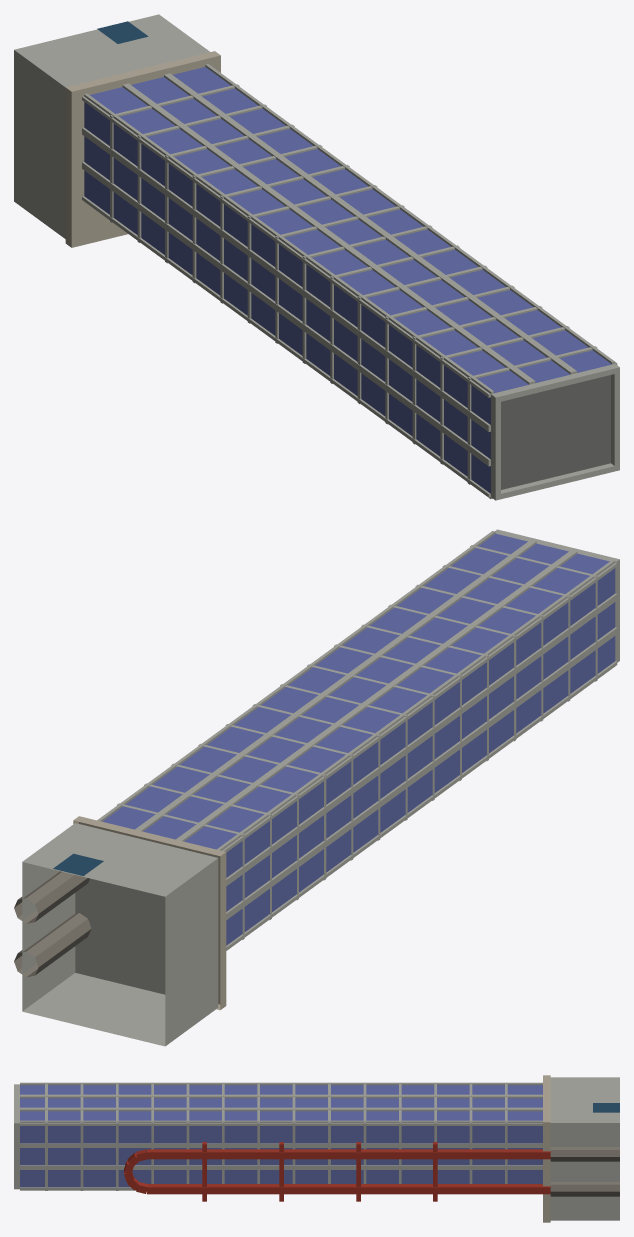
File: construction_2.glb
3 views of the same model, one above another, from view 1: azimuth 30°, elevation 25°; view 2: azimuth 150°, elevation 25°; view 3: azimuth 270°, elevation 25° (orthographic). The views are drawn at different scales.
Visible parts, largest first — view 1: construction_2; view 2: construction_2; view 3: construction_2.
Boxes of the visible parts, x1,y1,x2,y2 form: construction_2: (14, 14, 619, 500); construction_2: (14, 529, 619, 1046); construction_2: (14, 1075, 619, 1222).
Size of the model in its own units: 15 by 14.4 by 78.8.
